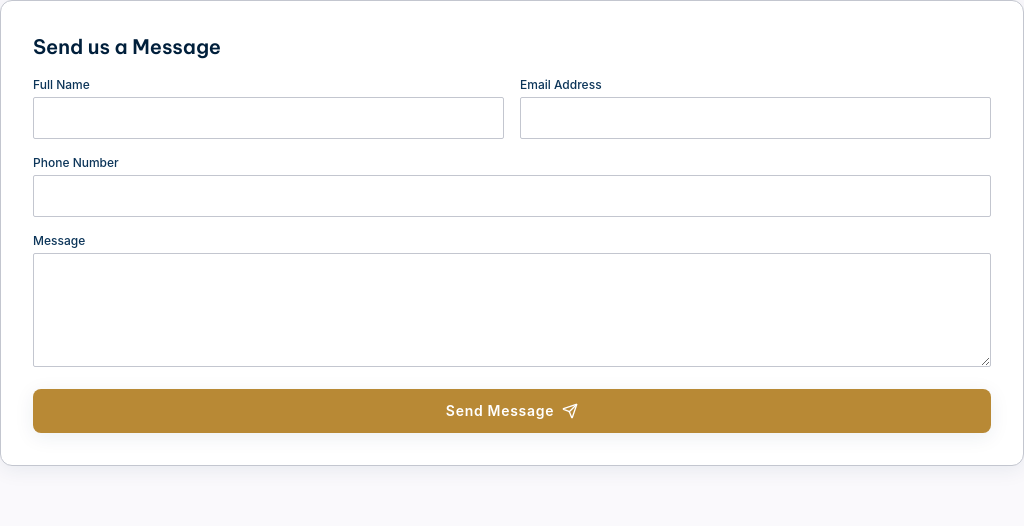
Test case: ContactForm › shows an error message when submission fails
Type "Jane Doe" into the field labelled "Full Name" at [268, 118], box 33,97 -> 504,139
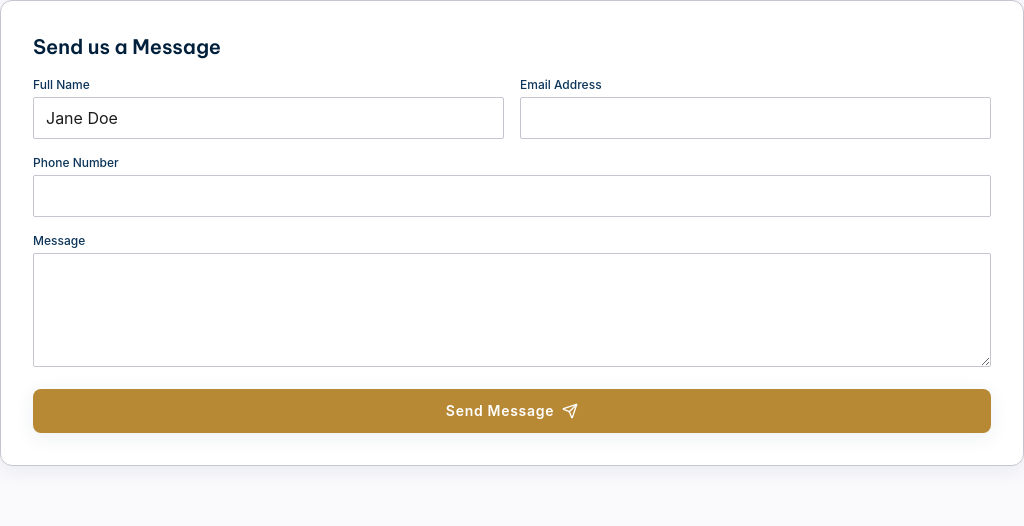
Type "jane@example.com" into the field labelled "Email Address" at [756, 118], box 520,97 -> 991,139
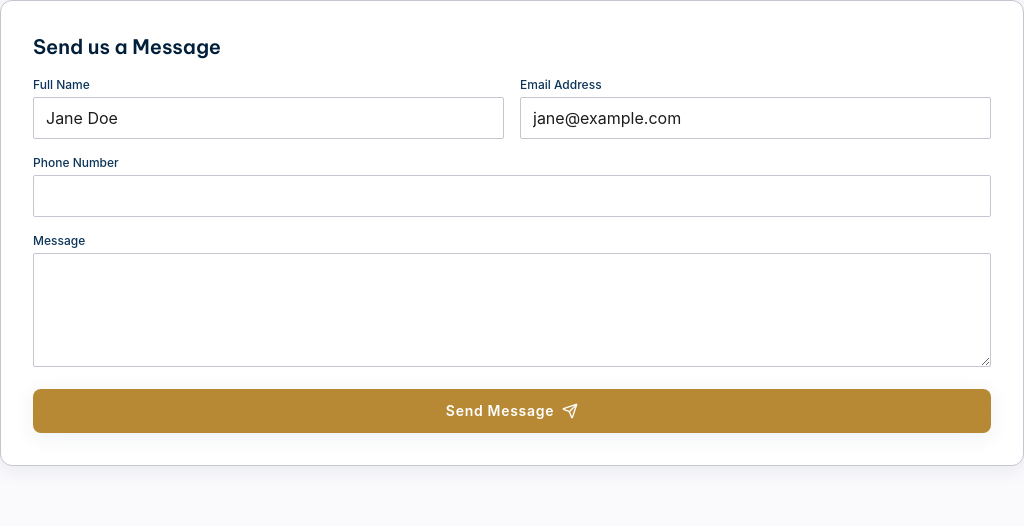
Type "Hello" into the text box labelled "Message" at [512, 310], box 33,253 -> 991,367
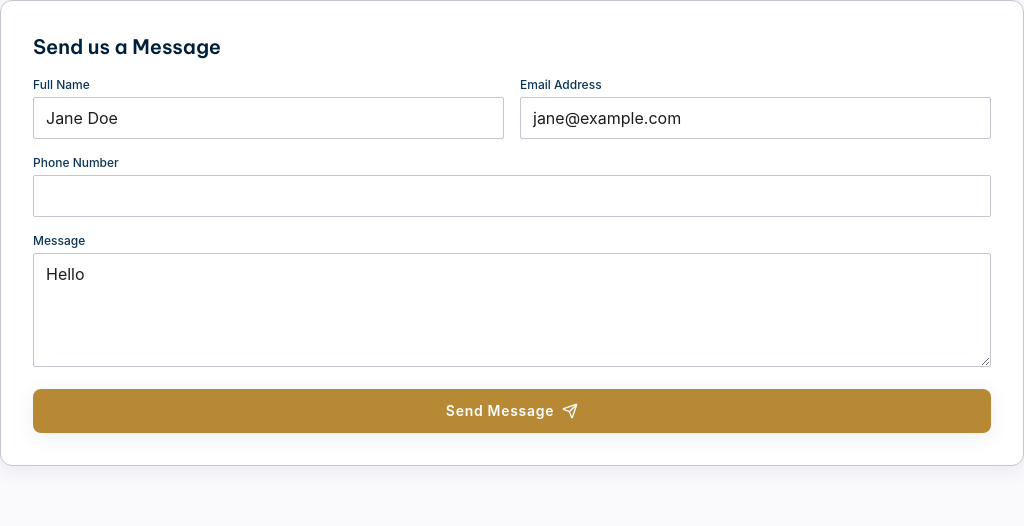
Click the button "Send Message" at [512, 411], box 33,389 -> 991,433
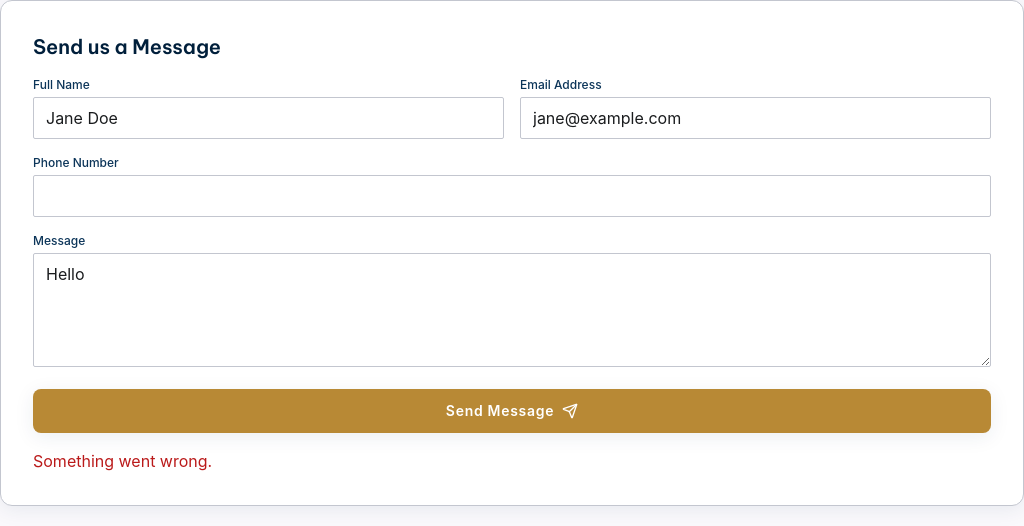
Result: the text "Something went wrong." is shown at 33,451 -> 212,471
